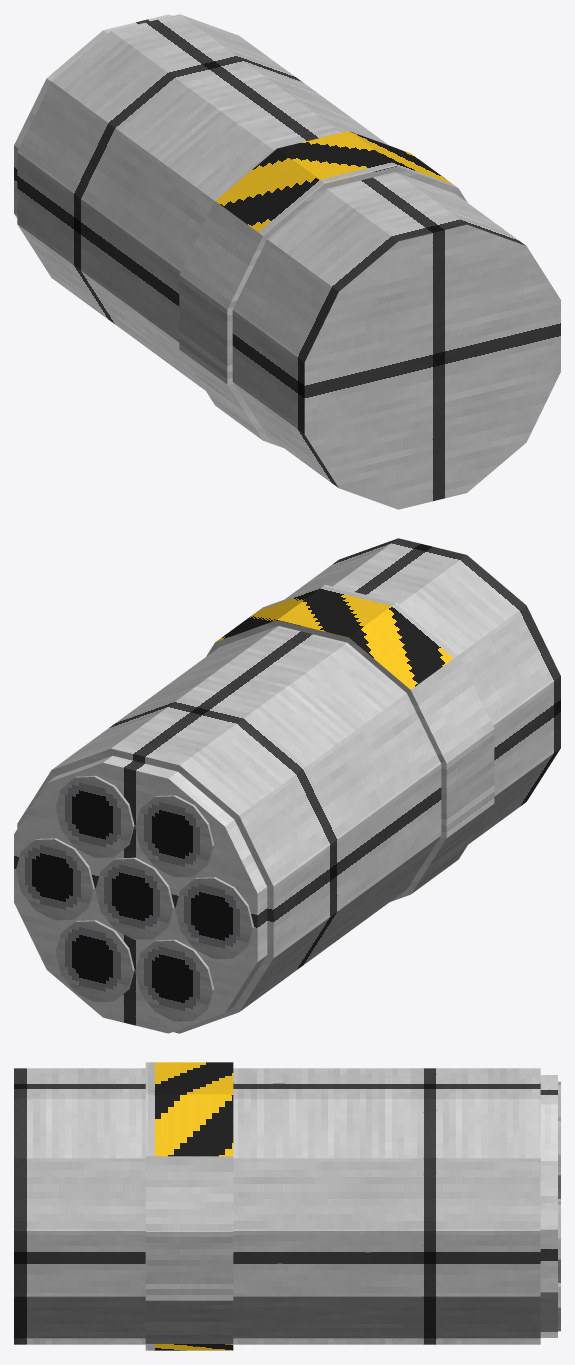
Rendered from rack_port_aphelion.glb.
The picture shows the model from 3 angles, top to bottom: view 1: azimuth 30°, elevation 25°; view 2: azimuth 150°, elevation 25°; view 3: azimuth 270°, elevation 25°; orthographic projection. The views are drawn at different scales.
Visible parts, largest first — view 1: rack, rack_band, rack_face; view 2: rack, rack_band, rack_face, rack_tube.005, rack_tube.004, rack_tube, rack_tube.001, rack_tube.002, rack_tube.006, rack_tube.003; view 3: rack, rack_band, rack_face.
Boxes of the visible parts, bbox=[...] form: rack: bbox=[17, 14, 560, 509]; rack_band: bbox=[179, 131, 467, 447]; rack_face: bbox=[14, 14, 172, 218]; rack: bbox=[17, 538, 560, 1033]; rack_band: bbox=[206, 585, 494, 901]; rack_face: bbox=[14, 756, 267, 1033]; rack_tube.005: bbox=[135, 939, 214, 1021]; rack_tube.004: bbox=[175, 877, 253, 959]; rack_tube: bbox=[95, 857, 174, 939]; rack_tube.001: bbox=[16, 838, 94, 920]; rack_tube.002: bbox=[55, 775, 134, 857]; rack_tube.006: bbox=[55, 920, 134, 1002]; rack_tube.003: bbox=[135, 795, 214, 877]; rack: bbox=[14, 1068, 540, 1344]; rack_band: bbox=[145, 1062, 233, 1350]; rack_face: bbox=[540, 1075, 557, 1337].
Size of the model in its own units: 9.66 by 9.66 by 18.7.
Materials: 4 (4 with a texture image).
